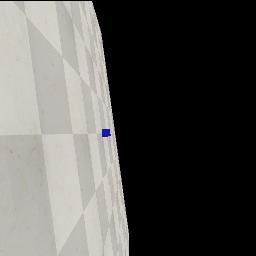box: (102, 129, 111, 137)
